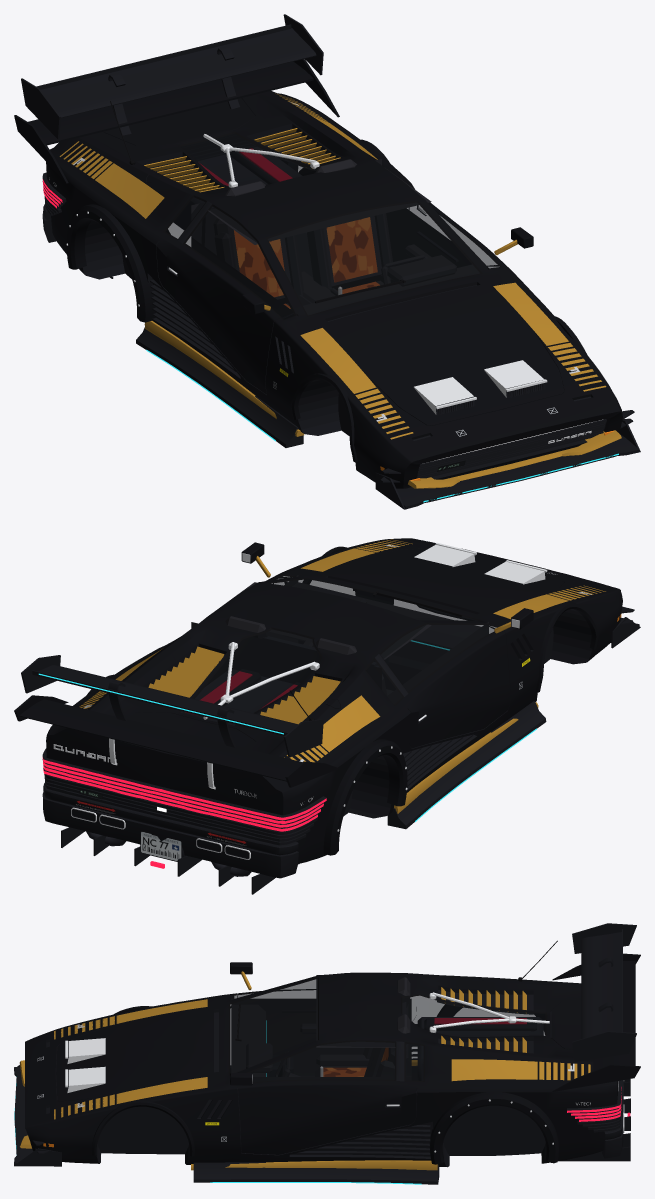
File: car_turbo.glb
3 views of the same model, one above another, from view 1: azimuth 30°, elevation 25°; view 2: azimuth 150°, elevation 25°; view 3: azimuth 270°, elevation 25° (orthographic). The views are drawn at different scales.
Visible parts, largest first — view 1: body, spoiler_2_parts, kit_1_parts, spoiler_1_parts, kit_0_parts; view 2: body, kit_1_parts, spoiler_1_parts, spoiler_2_parts, kit_0_parts; view 3: body, kit_1_parts, spoiler_2_parts, spoiler_1_parts, kit_0_parts.
Part boxes in pixels (x1=…): body: x1=42, y1=91, x2=622, y2=488; spoiler_2_parts: x1=21, y1=14, x2=323, y2=139; kit_1_parts: x1=42, y1=157, x2=640, y2=509; spoiler_1_parts: x1=14, y1=59, x2=339, y2=183; kit_0_parts: x1=144, y1=157, x2=621, y2=488; body: x1=42, y1=538, x2=622, y2=876; kit_1_parts: x1=42, y1=606, x2=640, y2=894; spoiler_1_parts: x1=14, y1=695, x2=339, y2=789; spoiler_2_parts: x1=21, y1=655, x2=323, y2=757; kit_0_parts: x1=394, y1=605, x2=538, y2=813; body: x1=25, y1=940, x2=624, y2=1167; kit_1_parts: x1=14, y1=1065, x2=630, y2=1184; spoiler_2_parts: x1=572, y1=923, x2=636, y2=1061; spoiler_1_parts: x1=552, y1=953, x2=640, y2=1091; kit_0_parts: x1=19, y1=1060, x2=603, y2=1170.
Size of what is drawn, in the model's own units: 2.06 by 1.26 by 4.73.
11 materials, 1 textured.
